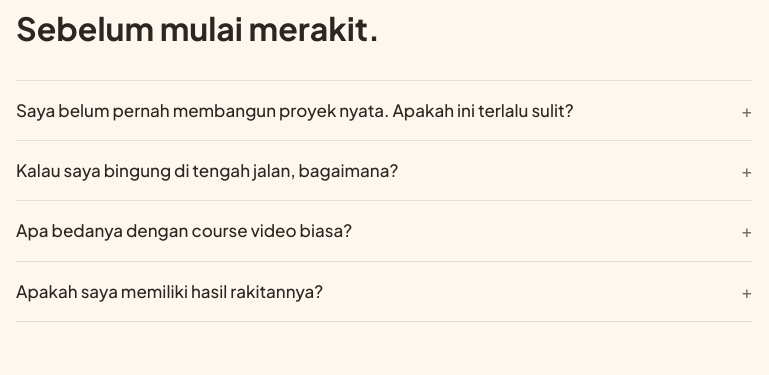
FaqSection › expands an item's answer on click and keeps it keyboard-operable
The width and height of the screenshot is (769, 375).
What coordinates should you click on to do the following:
click the heading "Apakah saya memiliki hasil rakitannya? +"
I would click on:
 (170, 291)
Its box is [16, 278, 752, 305].
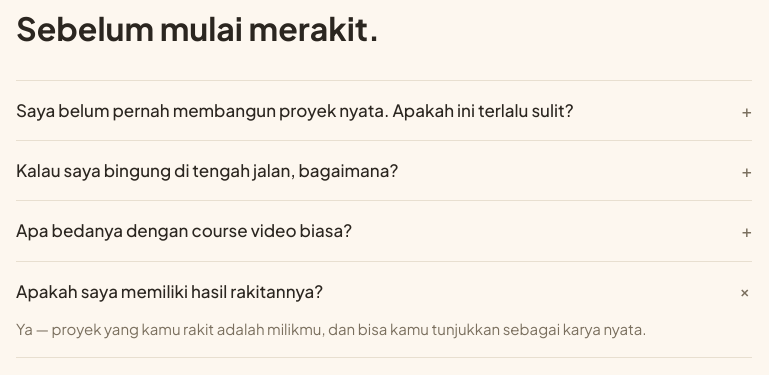
Expected: the text "proyek yang kamu rakit adalah milikmu" is shown, [16, 319, 646, 338]
